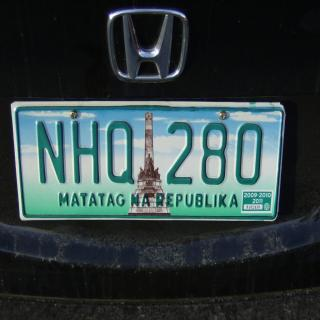license: (10, 99, 287, 224)
